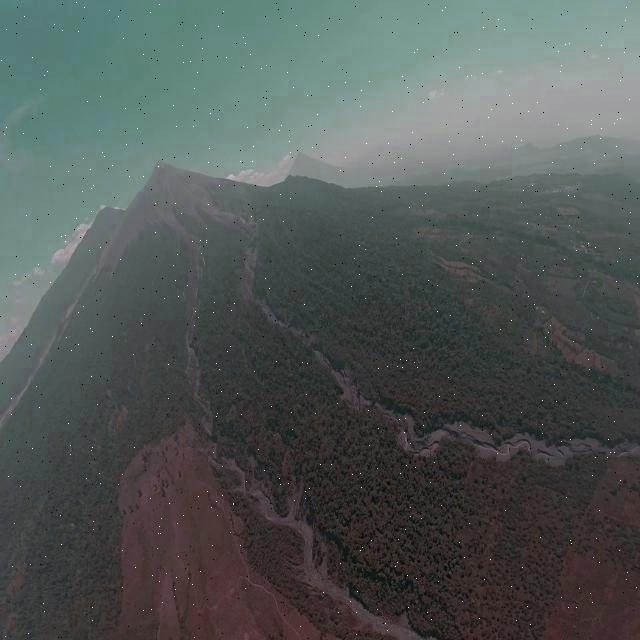Summit: (151, 157, 177, 176)
